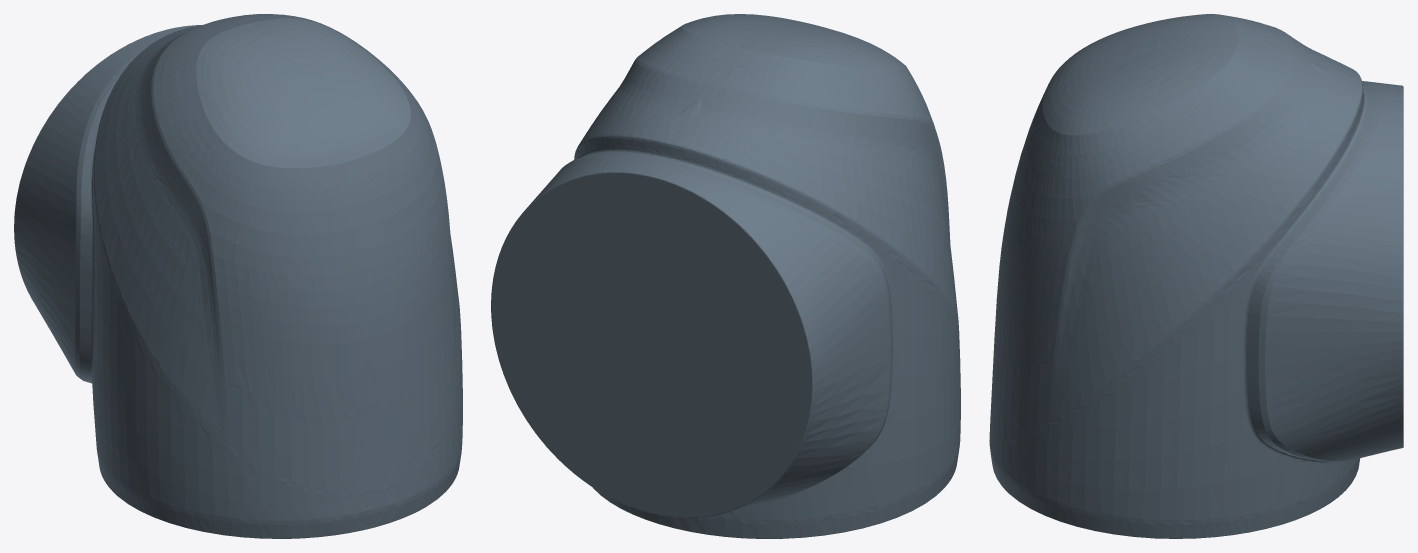
The picture shows the model from 3 angles, left to right: view 1: azimuth 30°, elevation 25°; view 2: azimuth 150°, elevation 25°; view 3: azimuth 270°, elevation 25°; orthographic projection. The views are drawn at different scales.
Visible parts, largest first — view 1: H2017_1_0; view 2: H2017_1_0; view 3: H2017_1_0.
Part boxes in pixels (x1,y1,x2,y2): H2017_1_0: [14, 14, 462, 538]; H2017_1_0: [491, 14, 960, 538]; H2017_1_0: [989, 14, 1403, 538].
Size of the model in its own units: 213 by 233 by 264.
